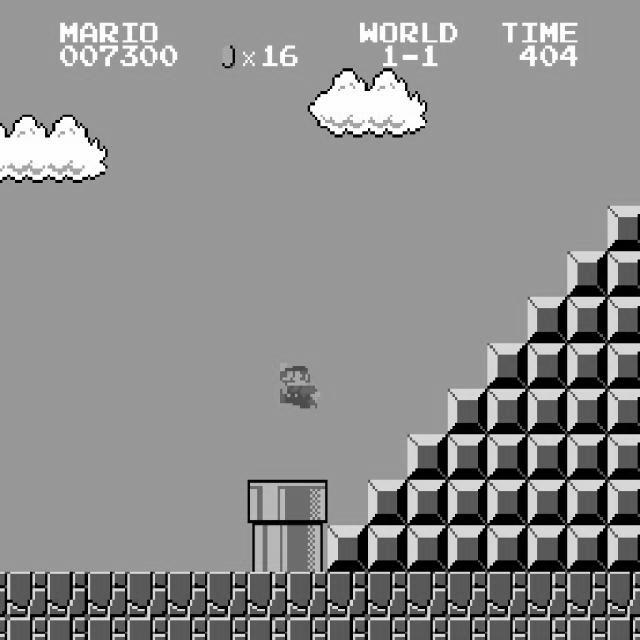11- little_mario: (277, 360, 320, 408)
14- pipe: (247, 526, 288, 572), (287, 526, 328, 572)
15- pipe_head: (247, 480, 288, 526), (287, 480, 328, 526)
17- undestructible_block: (7, 572, 48, 618), (47, 572, 88, 618), (87, 572, 128, 618), (127, 572, 168, 618), (167, 572, 208, 618), (207, 572, 248, 618), (247, 572, 288, 618), (287, 572, 328, 618), (327, 572, 368, 618), (367, 572, 408, 618), (407, 572, 448, 618), (447, 572, 488, 618), (487, 572, 528, 618), (527, 572, 568, 618), (567, 572, 608, 618), (607, 571, 640, 617), (7, 617, 48, 640), (47, 617, 88, 640), (87, 617, 128, 640), (127, 617, 168, 640), (167, 617, 208, 640), (207, 617, 248, 640), (247, 617, 288, 640), (287, 617, 328, 640), (327, 617, 368, 640), (367, 617, 408, 640), (407, 617, 448, 640), (447, 617, 488, 640), (487, 617, 528, 640), (527, 617, 568, 640), (567, 617, 608, 640), (607, 617, 640, 639), (0, 572, 7, 618), (0, 617, 7, 640)
9- hard_block: (327, 526, 368, 572), (367, 480, 408, 526), (367, 526, 408, 572), (407, 434, 448, 480), (407, 480, 448, 526), (407, 526, 448, 572), (447, 388, 488, 434), (447, 434, 488, 480), (447, 480, 488, 526), (447, 526, 488, 572), (487, 388, 528, 434), (487, 434, 528, 480), (487, 480, 528, 526), (487, 526, 528, 572), (527, 297, 568, 343), (527, 388, 568, 434), (527, 434, 568, 480), (527, 480, 568, 526), (527, 526, 568, 572), (567, 252, 608, 298), (567, 297, 608, 343), (567, 388, 608, 434), (567, 434, 608, 480), (567, 480, 608, 526), (567, 526, 608, 572), (487, 343, 528, 388), (527, 343, 568, 388), (567, 343, 608, 388), (607, 205, 640, 251), (607, 251, 640, 297), (607, 342, 640, 388), (607, 388, 640, 434), (607, 525, 640, 571), (607, 297, 640, 342), (607, 434, 640, 479), (607, 480, 640, 525)
